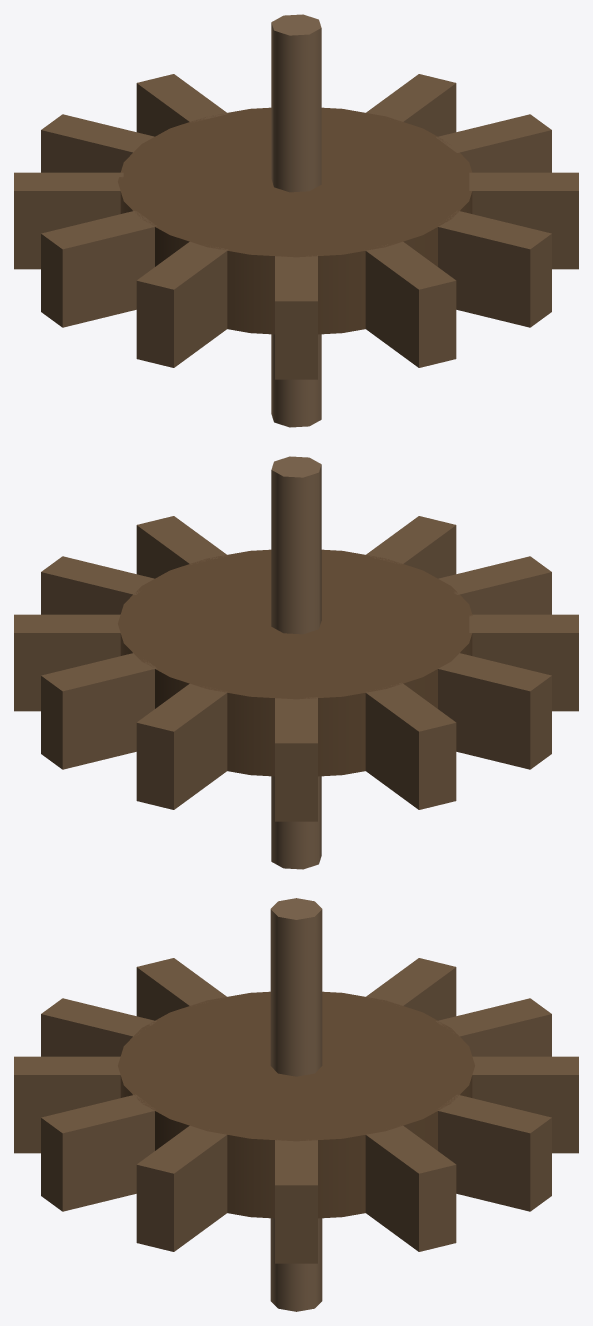
The model's file is large_cogwheel.obj.
The picture shows the model from 3 angles, top to bottom: view 1: azimuth 30°, elevation 25°; view 2: azimuth 150°, elevation 25°; view 3: azimuth 270°, elevation 25°; orthographic projection.
Parts seen in each view (by area): view 1: large_cogwheel; view 2: large_cogwheel; view 3: large_cogwheel.
Part boxes in pixels (x1,y1,x2,y2): large_cogwheel: (14,14,578,427); large_cogwheel: (14,456,578,869); large_cogwheel: (14,898,578,1311).
Size of the model in its own units: 1.96 by 1.5 by 1.96.
